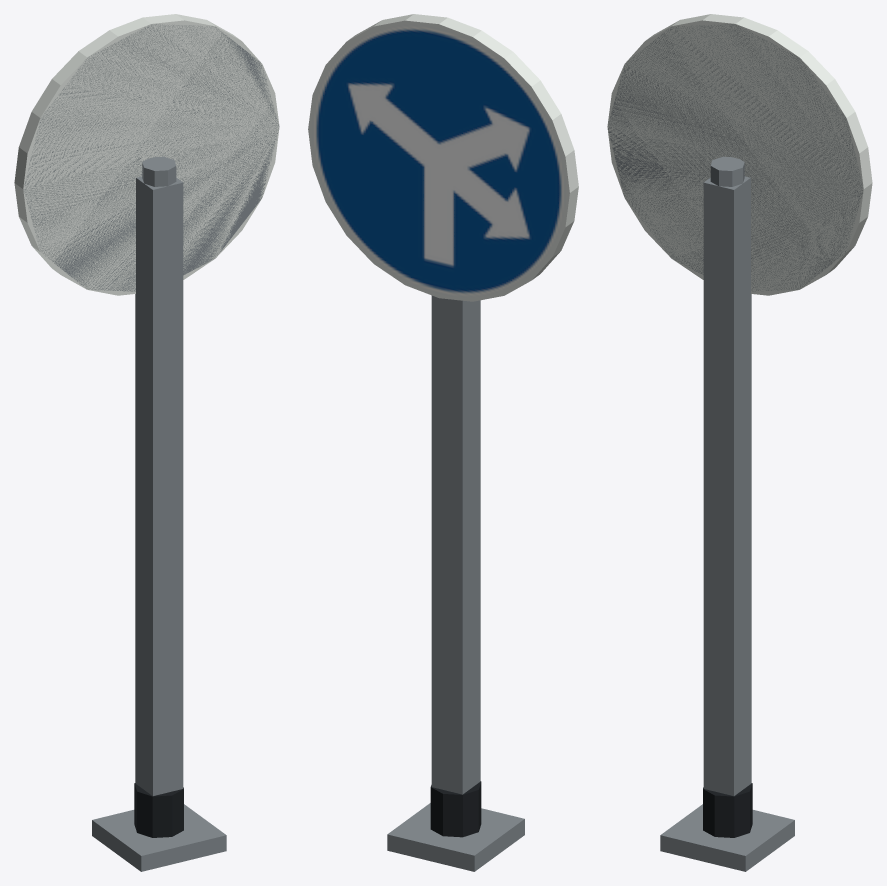
The model's file is direction-sign-l-r-hr.glb.
The picture shows the model from 3 angles, left to right: view 1: azimuth 30°, elevation 25°; view 2: azimuth 150°, elevation 25°; view 3: azimuth 330°, elevation 25°; orthographic projection. The views are drawn at different scales.
Parts seen in each view (by area): view 1: direction-sign-l-r-hr (×2); view 2: direction-sign-l-r-hr (×2); view 3: direction-sign-l-r-hr (×2).
Part boxes in pixels (left/top/right/bottom): direction-sign-l-r-hr (×2): left=14, top=14, right=279, bottom=871; direction-sign-l-r-hr (×2): left=308, top=14, right=578, bottom=871; direction-sign-l-r-hr (×2): left=607, top=14, right=872, bottom=871.
Bounding box in the file's own units: 2.35 × 7.14 × 0.784.
Materials: 4 (1 with a texture image).
